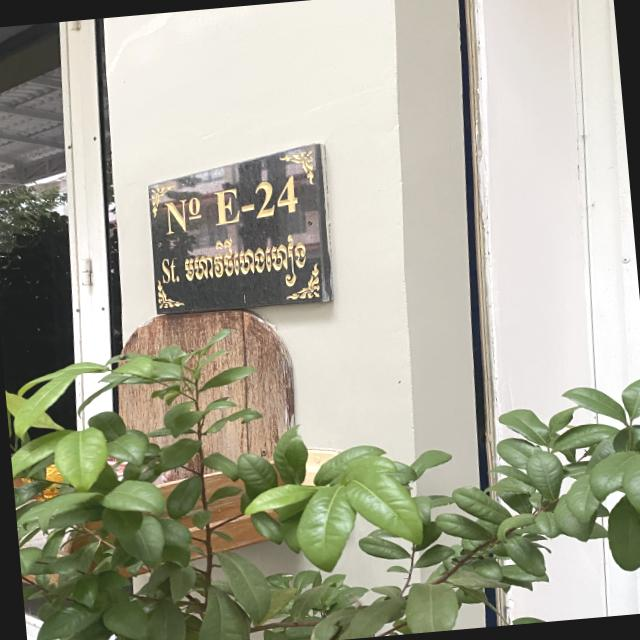Yolov11_80vkh: (182, 224, 317, 300)
